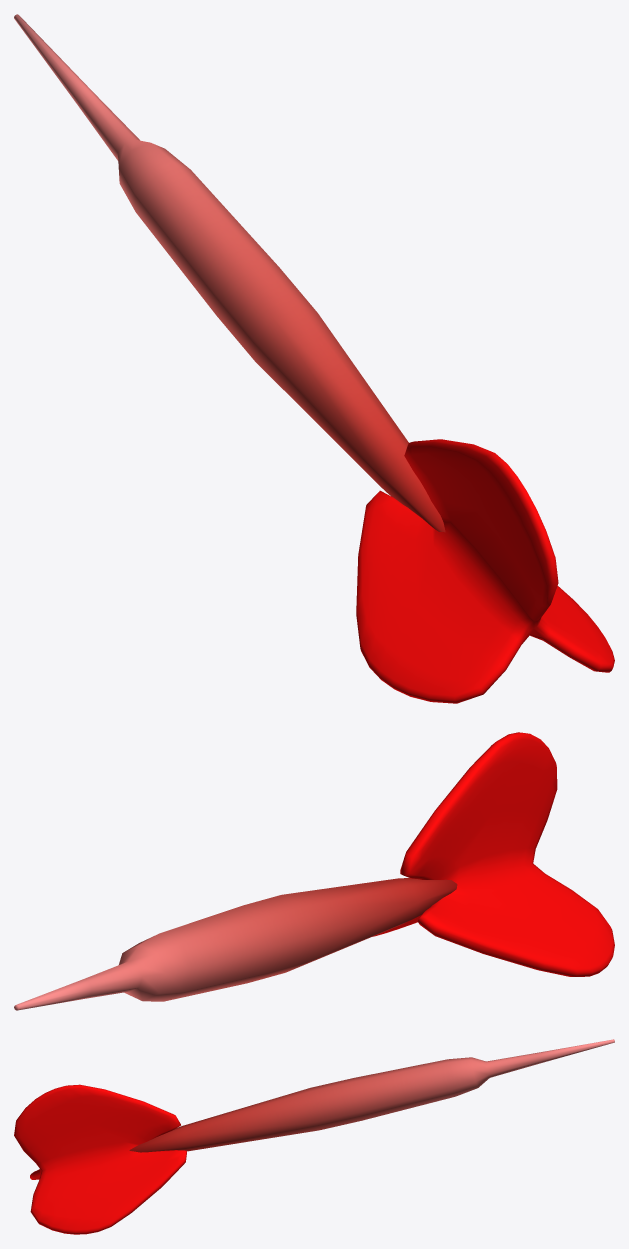
The model's file is Dart_Red.fbx.
3 renders of one model, top to bottom at view 1: azimuth 30°, elevation 25°; view 2: azimuth 150°, elevation 25°; view 3: azimuth 270°, elevation 25°, orthographic. The views are drawn at different scales.
Parts seen in each view (by area): view 1: Dart_Red; view 2: Dart_Red; view 3: Dart_Red.
Boxes of the visible parts, x1=… form: Dart_Red: x1=14, y1=14, x2=614, y2=703; Dart_Red: x1=14, y1=732, x2=614, y2=1010; Dart_Red: x1=14, y1=1039, x2=614, y2=1234.
Bounding box in the file's own units: 0.071 × 0.0919 × 0.298.
